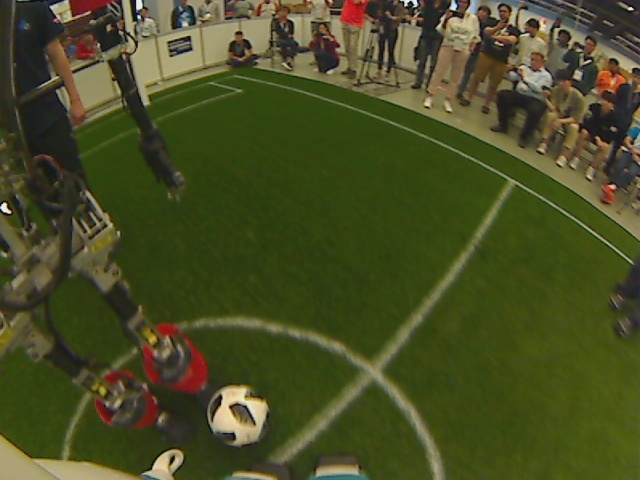ball: (206, 382, 272, 449)
